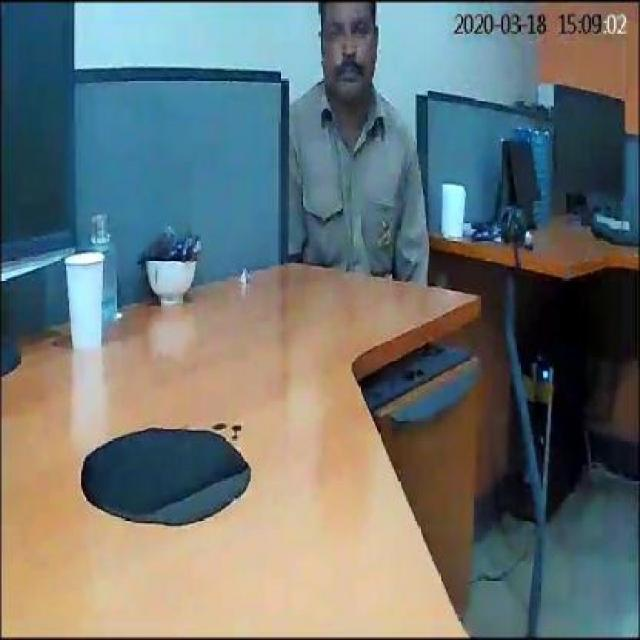spill: (74, 418, 250, 524)
